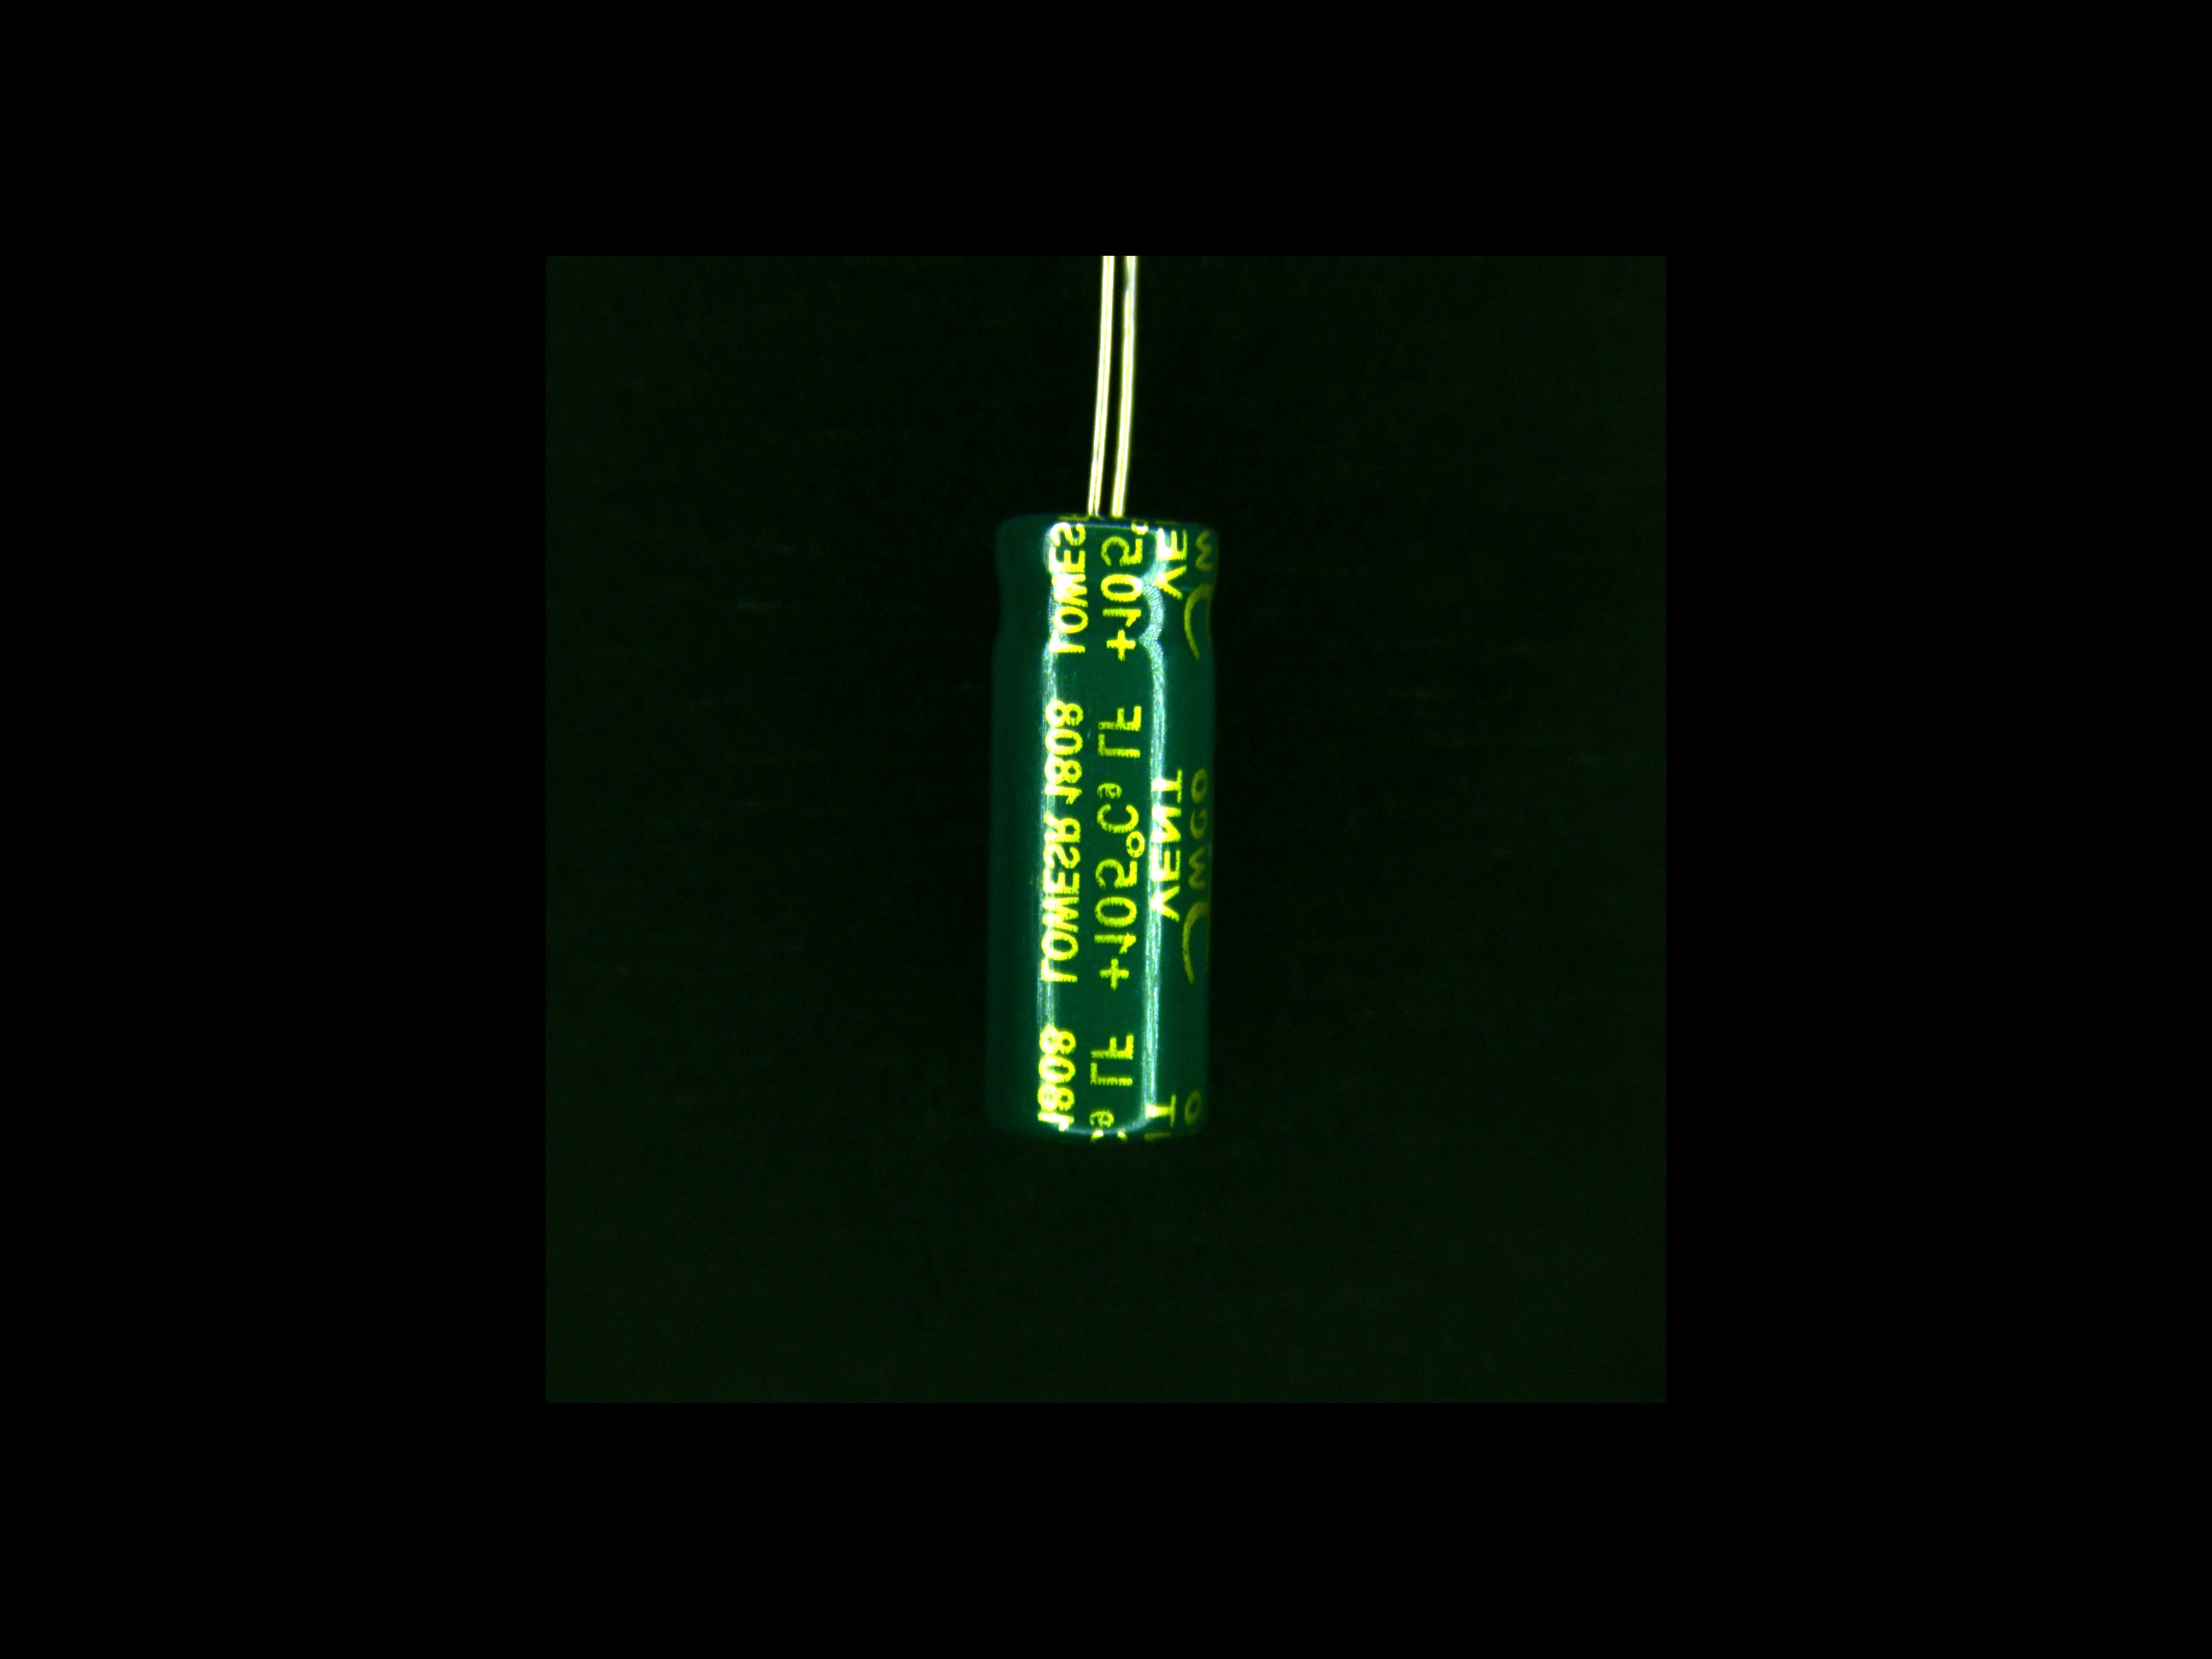c1: (984, 453, 1224, 1138)
